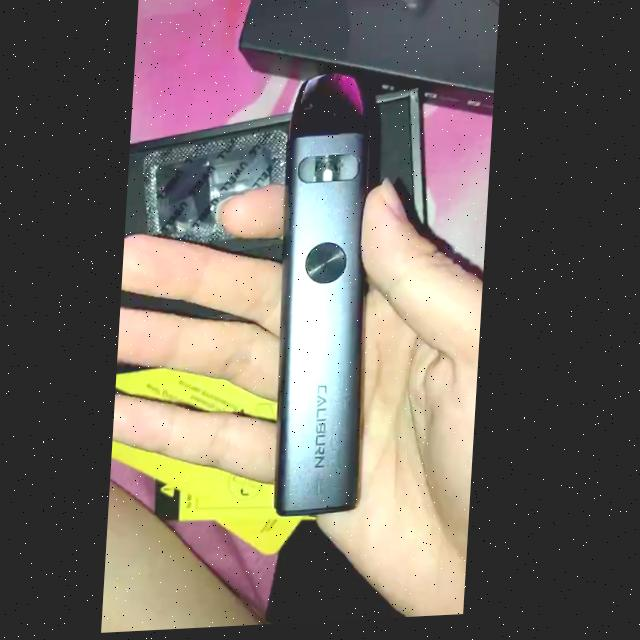vape: (276, 76, 383, 520)
